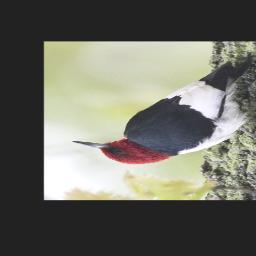Woodpecker: (62, 54, 256, 166)
